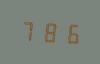eight: (39, 19, 58, 44)
seven: (18, 18, 37, 43)
six: (59, 20, 78, 45)
